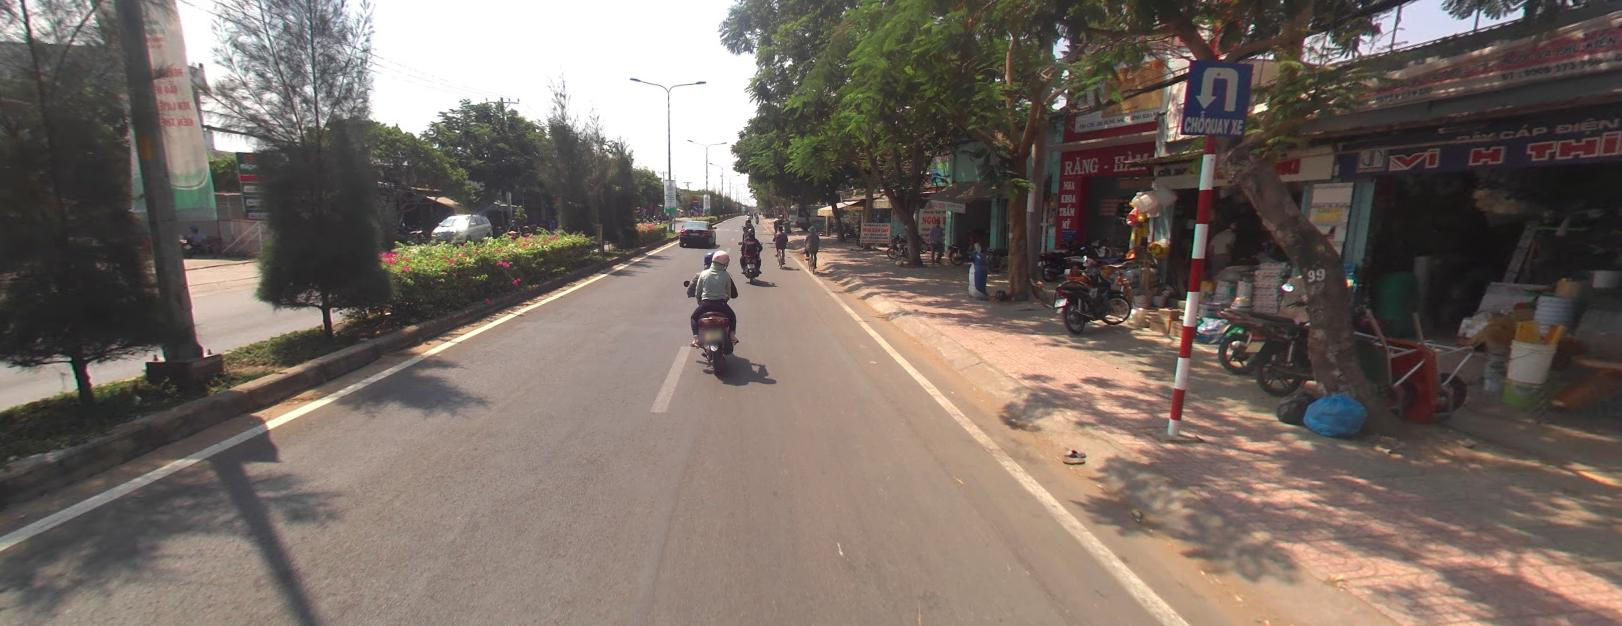Cam nguoc chieu: (691, 196, 698, 202)
Hieu lenh: (691, 202, 697, 208)
